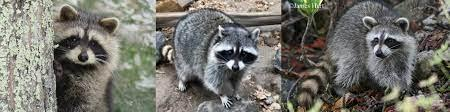raccoon: (286, 0, 435, 112), (155, 2, 268, 112), (31, 0, 131, 112)
